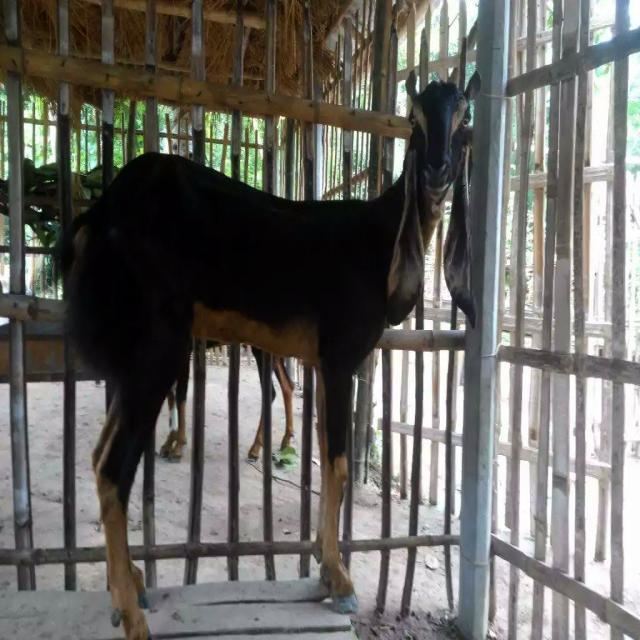Goat: (54, 36, 483, 637)
